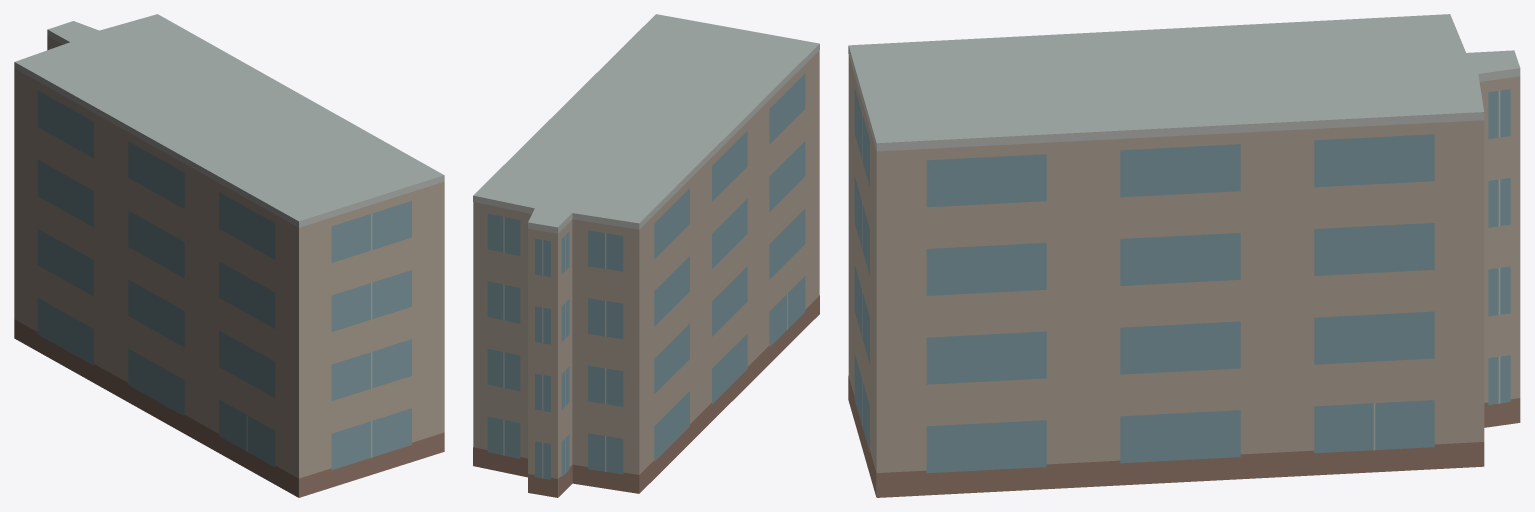
Rendered from survey-upis-32492644.glb.
3 renders of one model, left to right at view 1: azimuth 30°, elevation 25°; view 2: azimuth 150°, elevation 25°; view 3: azimuth 270°, elevation 25°, orthographic. The views are drawn at different scales.
Visible parts, largest first — view 1: survey-upis-32492644.tmp; view 2: survey-upis-32492644.tmp; view 3: survey-upis-32492644.tmp.
Part boxes in pixels (<box>): survey-upis-32492644.tmp: <box>14,14,444,497</box>; survey-upis-32492644.tmp: <box>473,14,819,497</box>; survey-upis-32492644.tmp: <box>848,14,1520,497</box>.
Size of the model in its own units: 8.22 by 10.5 by 18.04.
